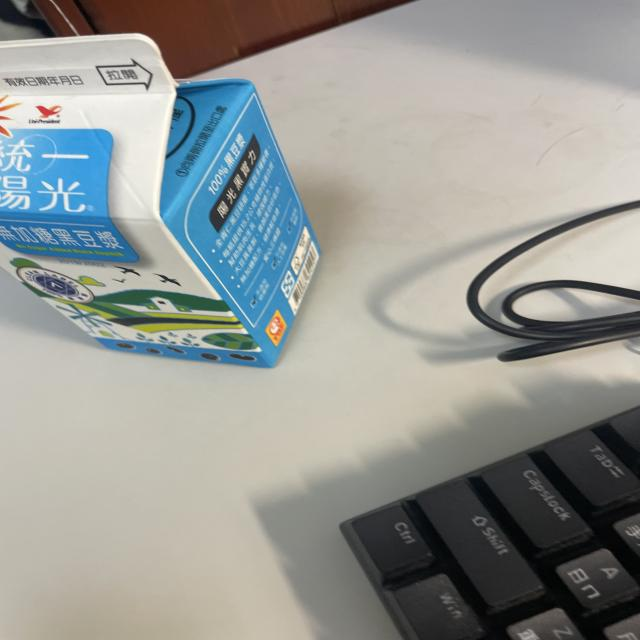TongYi_UnsweetenedBlackSoyMilk: (0, 27, 332, 373)
